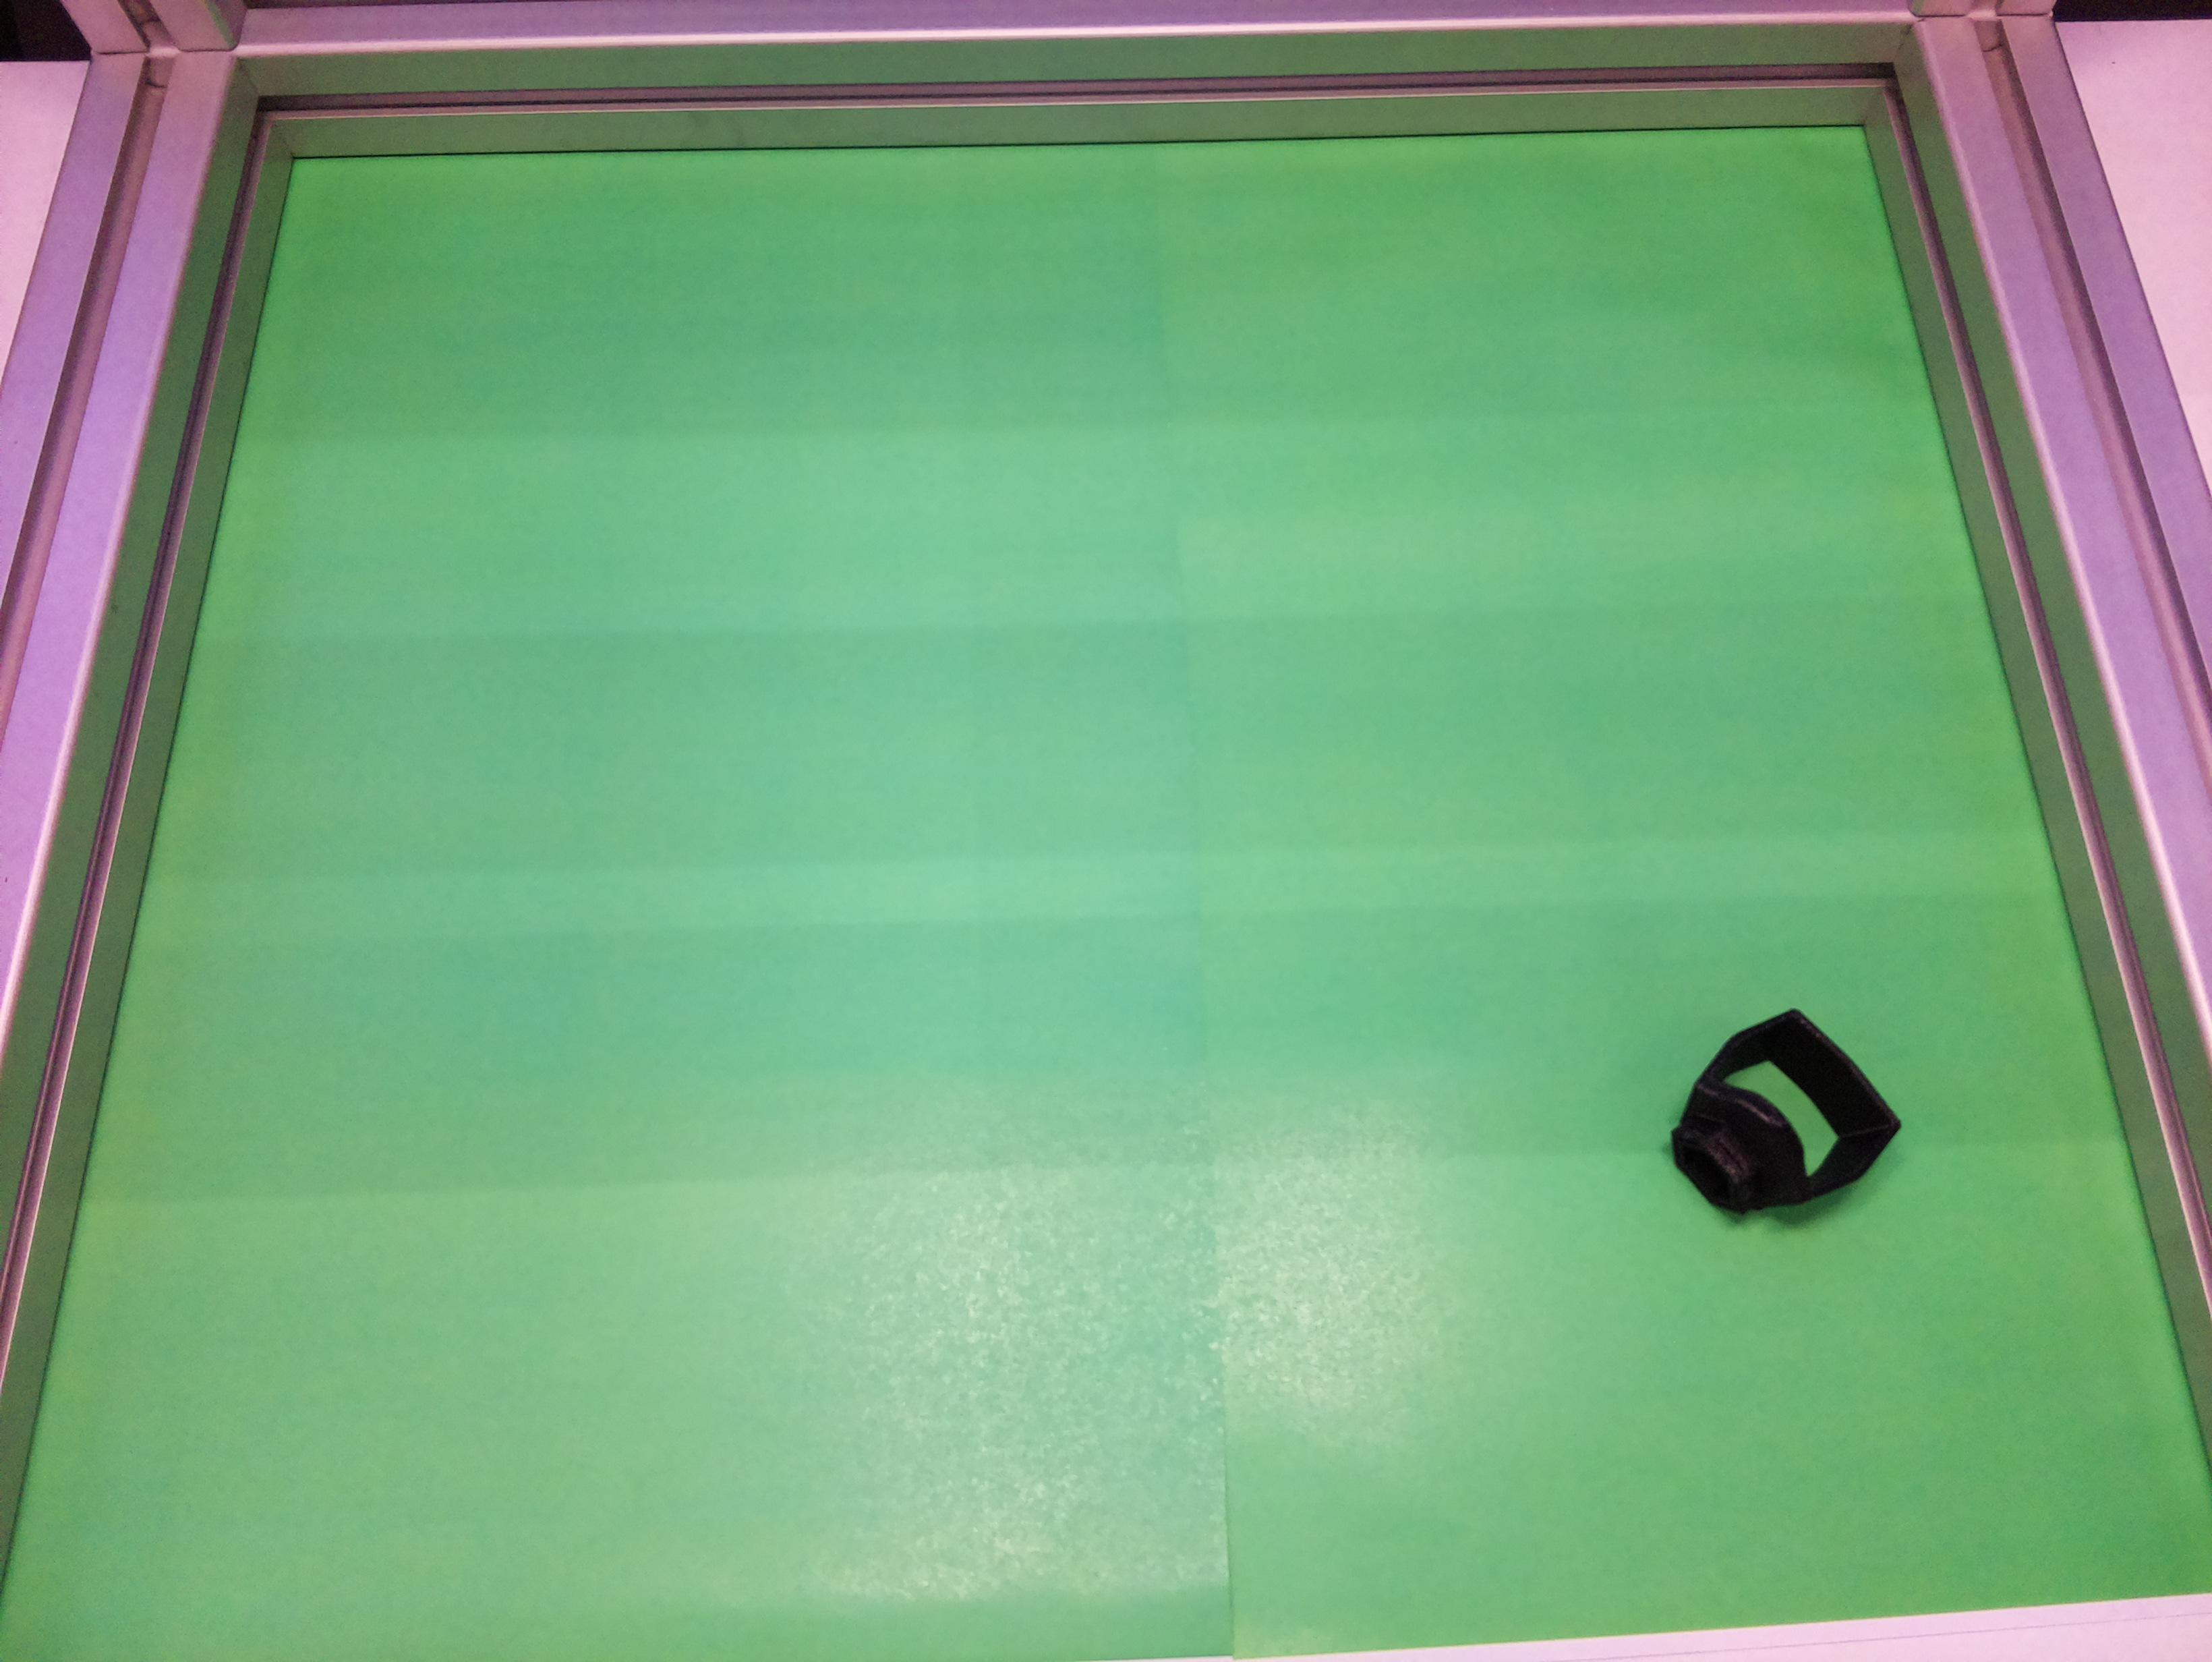scissor_holder: (1638, 988, 1912, 1260)
